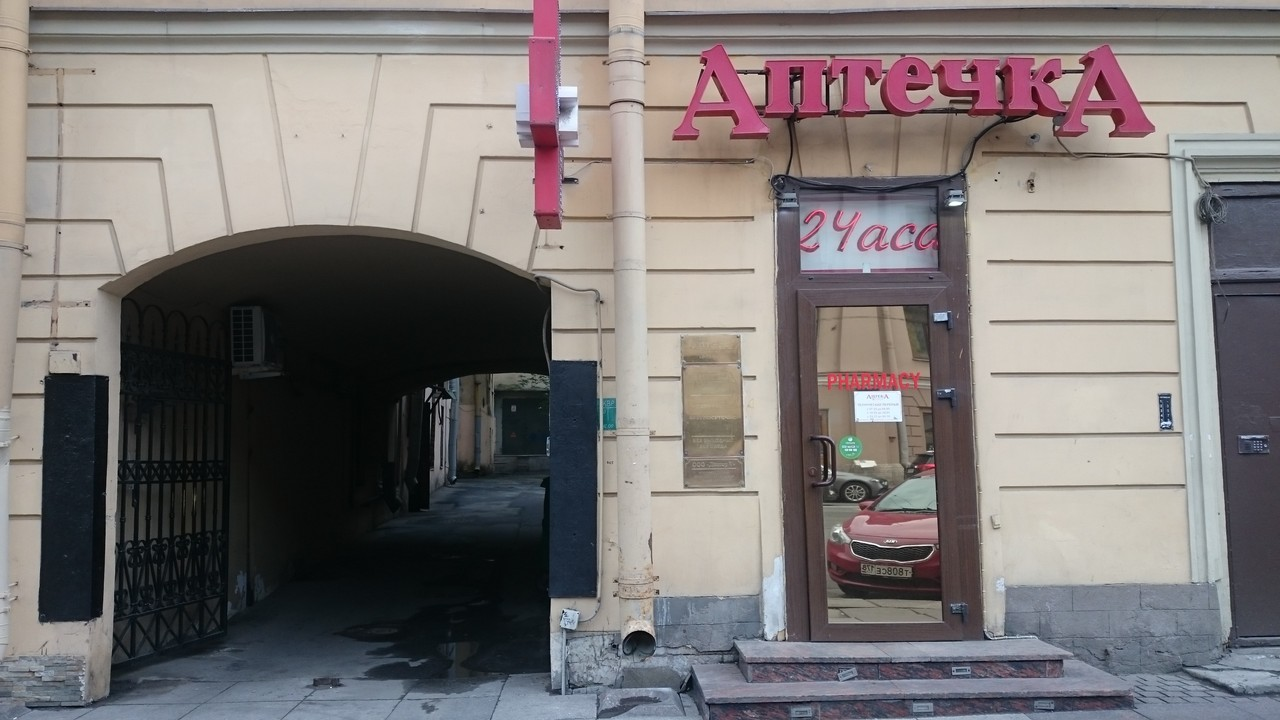arch: (94, 227, 557, 695)
cantilever: (515, 1, 582, 228)
door: (797, 290, 963, 641)
signboard: (670, 44, 1159, 140)
window: (793, 177, 948, 279)
